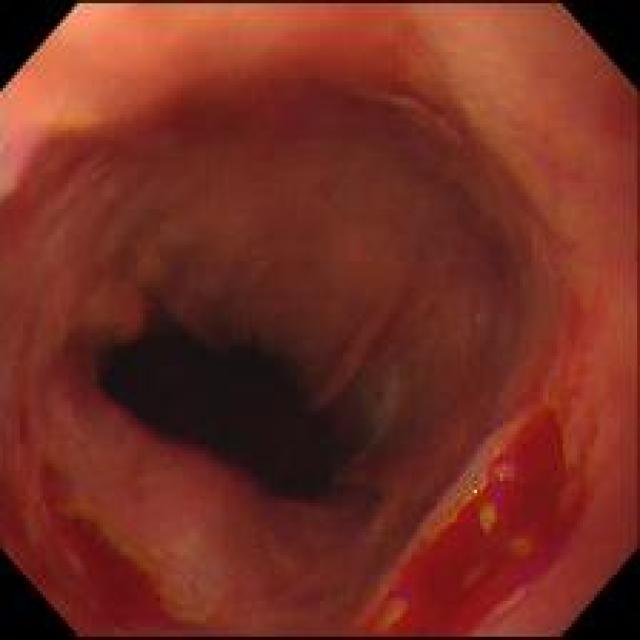blood: (354, 409, 588, 636), (50, 519, 212, 635)
contrast: (98, 293, 350, 517)
